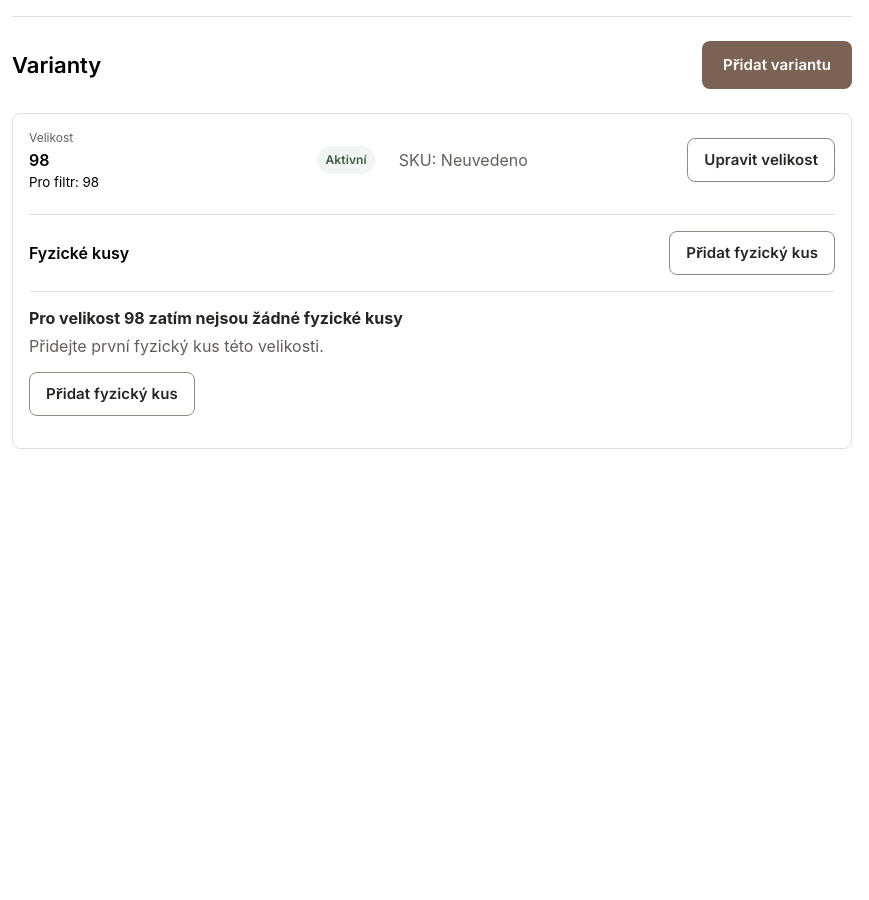
Scenario: VARIANT_NOT_FOUND retains typed size, disables Save and offers refresh
Click the button "Upravit velikost" at (761, 160), box [687,138,835,182]
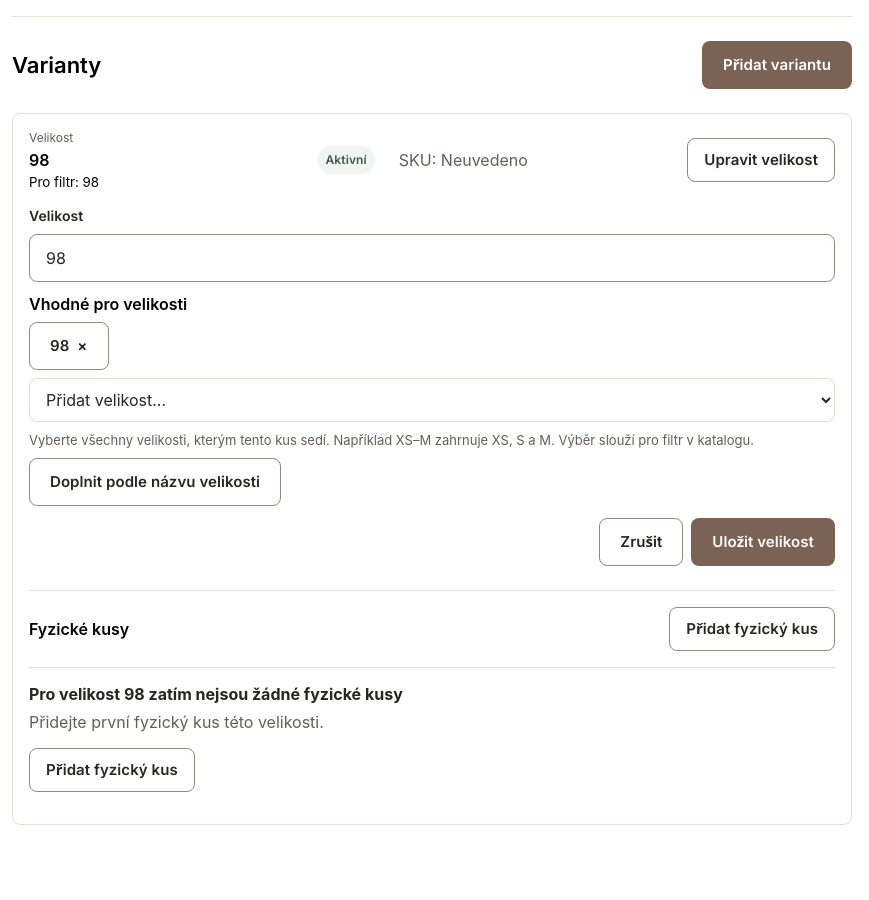
Replace the text in the field labelled "Velikost" with "104" at (432, 258), box [46,246,818,270]
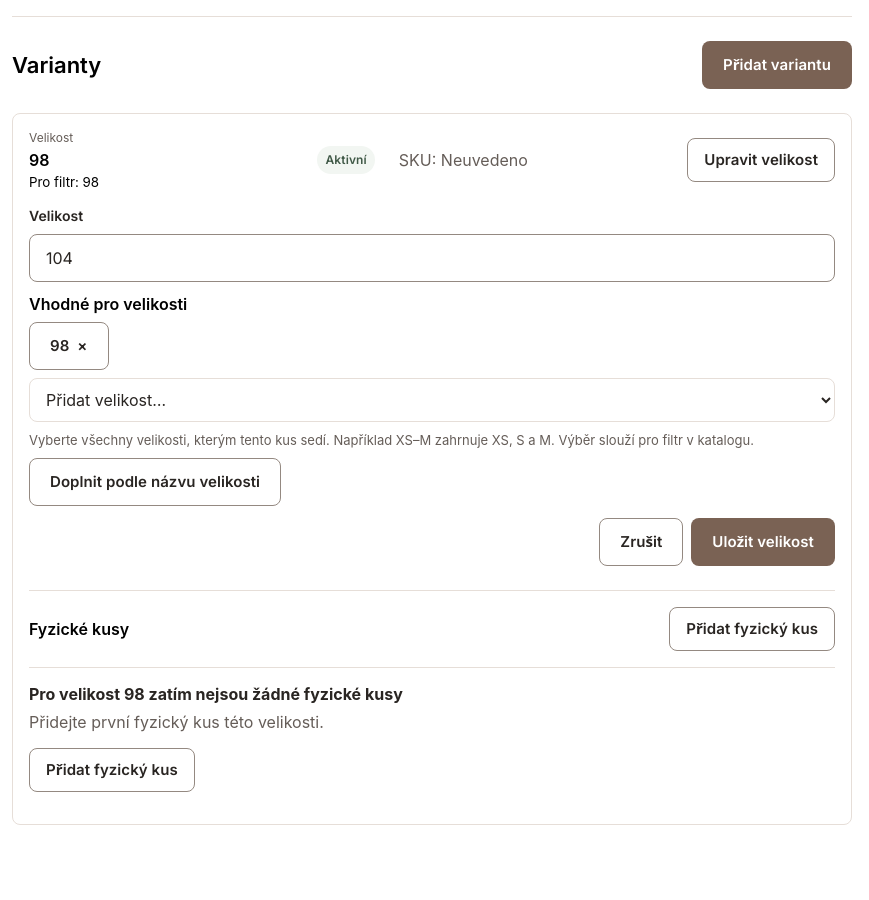
Click the button "Uložit velikost" at (763, 542), box [691,518,835,566]
(page scrolled)
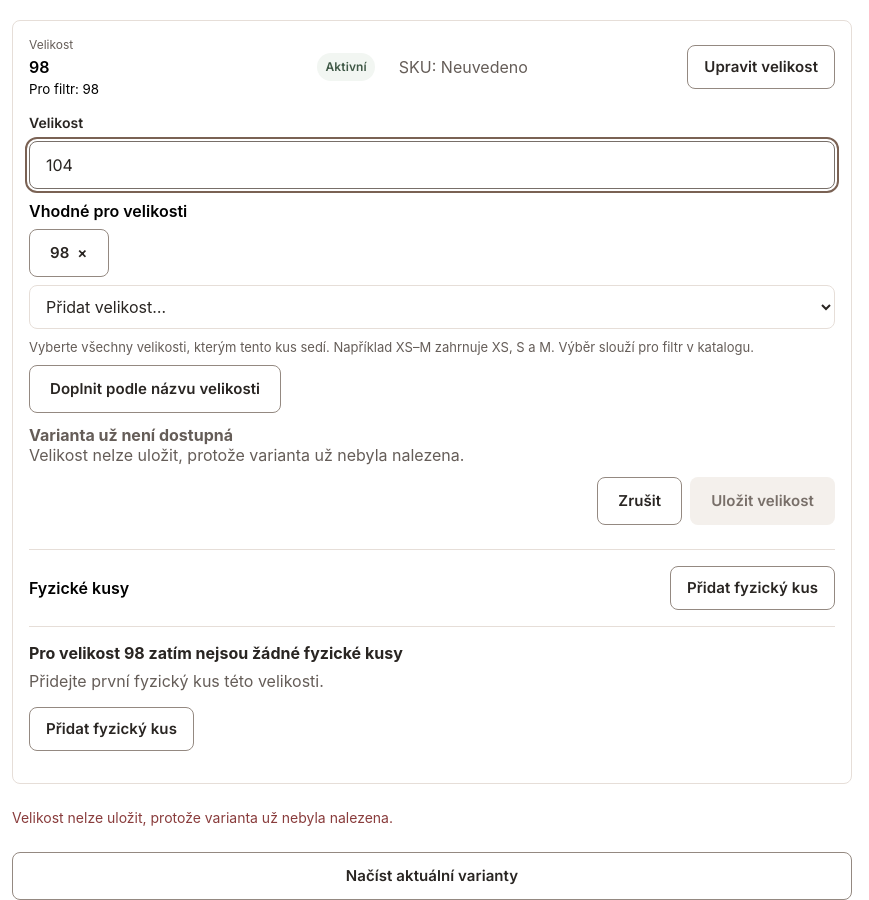
Expected: the text "Varianta už není dostupná" is shown, [29,425,233,445]
Expected: the button "Uložit velikost" is disabled, [690,477,835,525]
Expected: the button "Načíst aktuální varianty" is enabled, [12,852,852,899]
